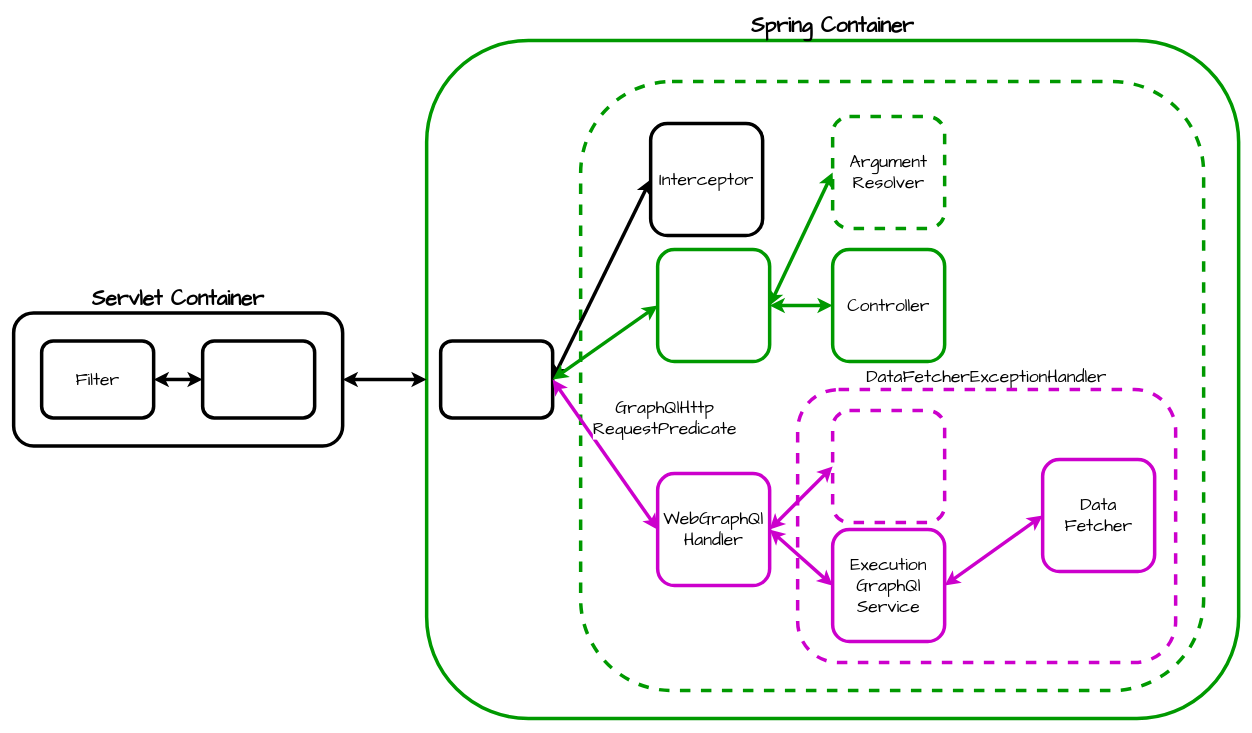
The diagram is 1252 pixels wide and 733 high, and some of its shapes have lost their labels. The shapes that lost their labels are listed below. From the top down, each one's box as (x1, y1, x2, y2) in pixels, then its label:
(656, 247, 771, 363): Handler Adapter
(201, 339, 316, 419): Dispatcher Servlet
(439, 339, 554, 419): Handler Mapping
(579, 79, 1205, 692): ExceptionResolver (ControllerAdvice)
(831, 408, 946, 524): Execution Strategy
